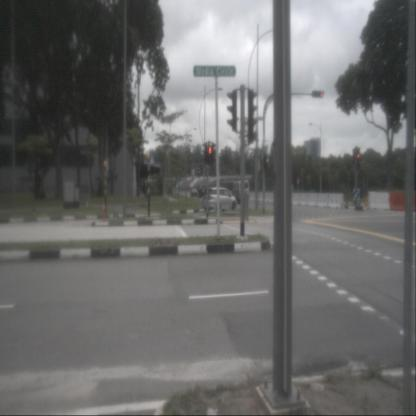movable_object-barrier: (368, 190, 390, 211), (390, 192, 412, 211), (327, 192, 344, 210), (316, 192, 328, 209), (306, 192, 317, 207), (299, 192, 308, 206), (292, 192, 300, 205), (268, 190, 274, 205), (248, 192, 256, 202), (257, 191, 264, 202)
movable_object-trafficcone: (102, 203, 107, 221)
vehicle-car: (204, 186, 236, 212), (231, 180, 249, 203)
